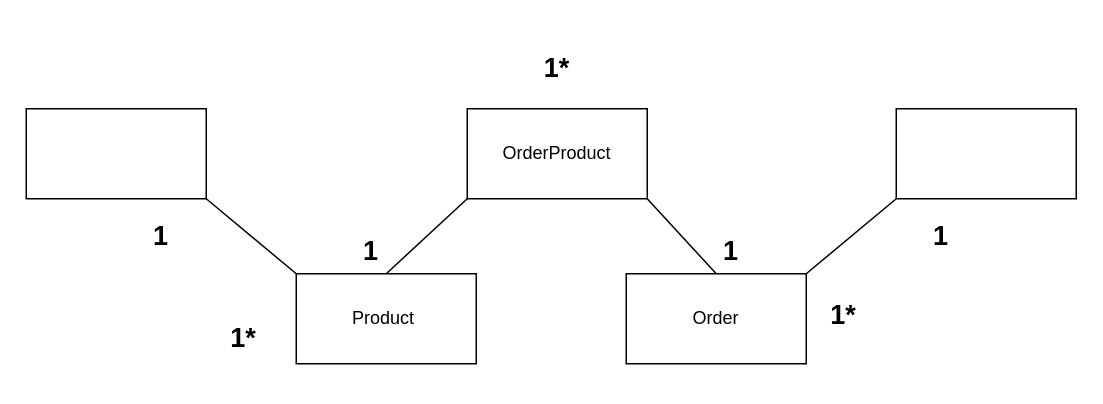
Some shapes in this 1103 by 404 pixel diagram are drawn without their labels. The box of each missing label's shape, as (x1, y1, x2, y2) in pixels:
Product Category: (25, 107, 206, 199)
User: (895, 107, 1076, 199)
